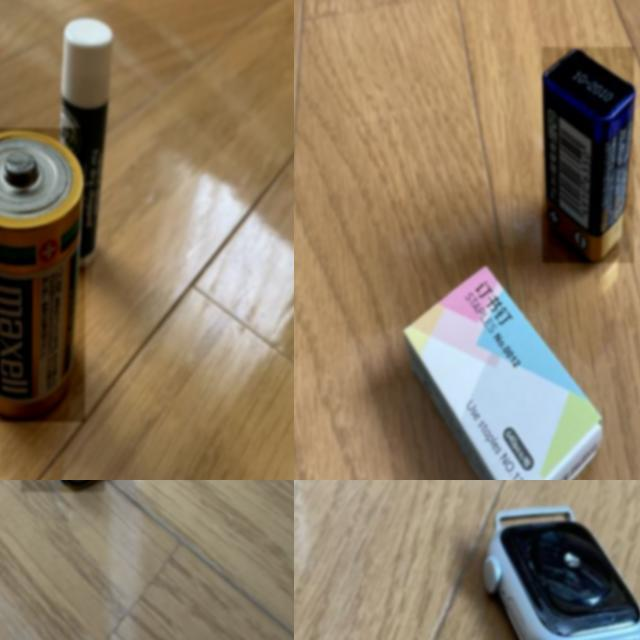9V: (542, 47, 634, 262)
